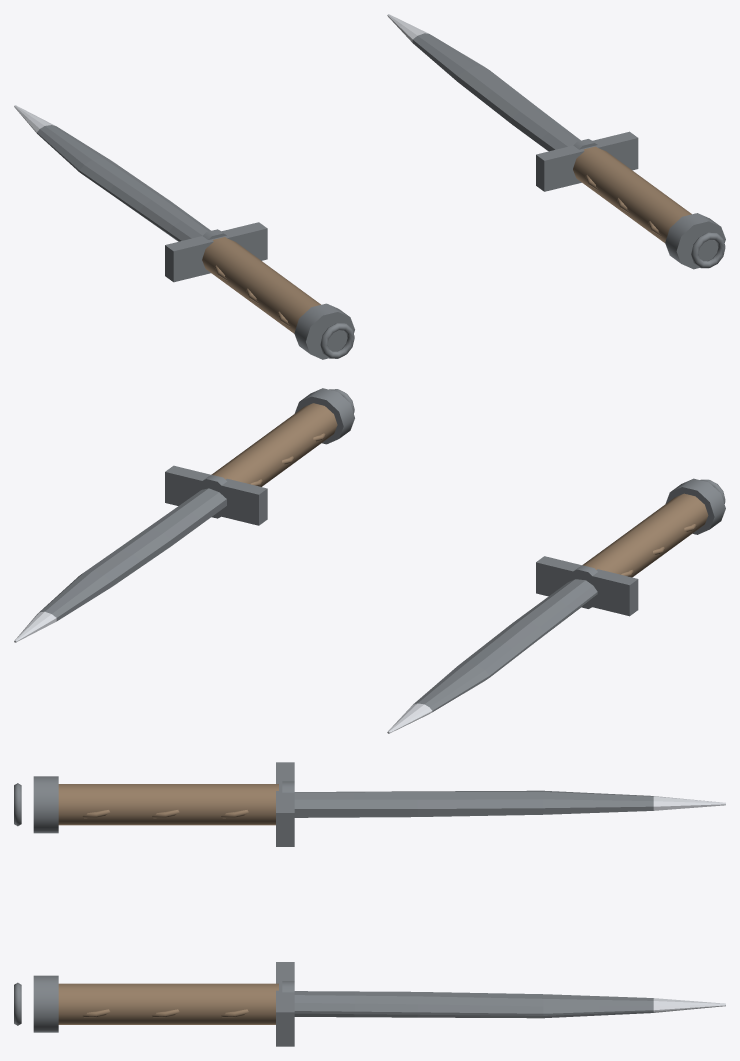
Rendered from art_rusty_daggers.fbx.
3 views of the same model, one above another, from view 1: azimuth 30°, elevation 25°; view 2: azimuth 150°, elevation 25°; view 3: azimuth 270°, elevation 25° (orthographic). The views are drawn at different scales.
Visible parts, largest first — view 1: BladeL, Blade, HandleL, Handle, CrossguardL, Crossguard, Pommel, PommelL; view 2: Blade, BladeL, HandleL, Handle, CrossguardL, Crossguard, PommelL, Pommel; view 3: Handle, HandleL, Blade, BladeL, PommelL, Pommel, Crossguard, CrossguardL, BladeEdge, BladeEdgeL.
Part boxes in pixels (x1=…): BladeL: x1=37, y1=125, x2=210, y2=241; Blade: x1=412, y1=33, x2=580, y2=151; HandleL: x1=202, y1=237, x2=320, y2=333; Handle: x1=573, y1=146, x2=691, y2=242; CrossguardL: x1=165, y1=222, x2=267, y2=282; Crossguard: x1=536, y1=131, x2=638, y2=191; Pommel: x1=665, y1=213, x2=725, y2=269; PommelL: x1=294, y1=303, x2=354, y2=359; Blade: x1=39, y1=488, x2=226, y2=621; BladeL: x1=413, y1=579, x2=597, y2=712; HandleL: x1=582, y1=493, x2=708, y2=577; Handle: x1=211, y1=403, x2=337, y2=486; CrossguardL: x1=536, y1=556, x2=638, y2=616; Crossguard: x1=165, y1=465, x2=267, y2=525; PommelL: x1=665, y1=478, x2=725, y2=534; Pommel: x1=294, y1=388, x2=354, y2=444; Handle: x1=58, y1=983, x2=278, y2=1024; HandleL: x1=58, y1=784, x2=278, y2=825; Blade: x1=294, y1=991, x2=653, y2=1018; BladeL: x1=294, y1=790, x2=653, y2=817; PommelL: x1=14, y1=776, x2=58, y2=833; Pommel: x1=14, y1=975, x2=58, y2=1032; Crossguard: x1=276, y1=962, x2=294, y2=1046; CrossguardL: x1=276, y1=762, x2=294, y2=846; BladeEdge: x1=653, y1=998, x2=725, y2=1012; BladeEdgeL: x1=653, y1=796, x2=725, y2=810.
Size of the model in its own units: 188 by 17.12 by 226.
